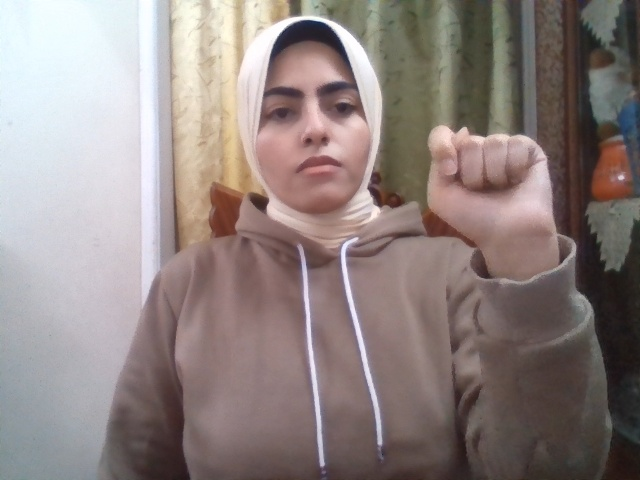T: (427, 125, 556, 244)
